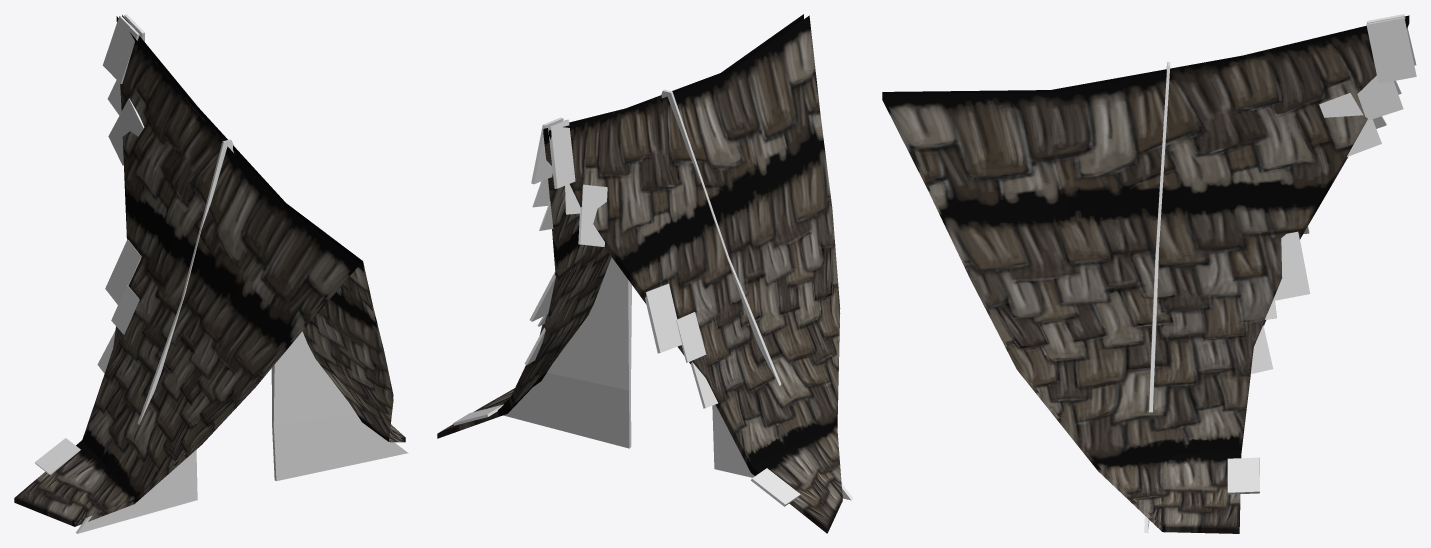
Rendered from Roof_Dormer_2.fbx.
The picture shows the model from 3 angles, left to right: view 1: azimuth 30°, elevation 25°; view 2: azimuth 150°, elevation 25°; view 3: azimuth 270°, elevation 25°; orthographic projection. The views are drawn at different scales.
Visible parts, largest first — view 1: Roof_Dormer_2; view 2: Roof_Dormer_2; view 3: Roof_Dormer_2.
Part boxes in pixels (x1,y1,x2,y2): Roof_Dormer_2: (14,14,408,533); Roof_Dormer_2: (437,14,853,533); Roof_Dormer_2: (882,14,1416,533).
Size of the model in its own units: 3.12 by 3.24 by 3.66.
